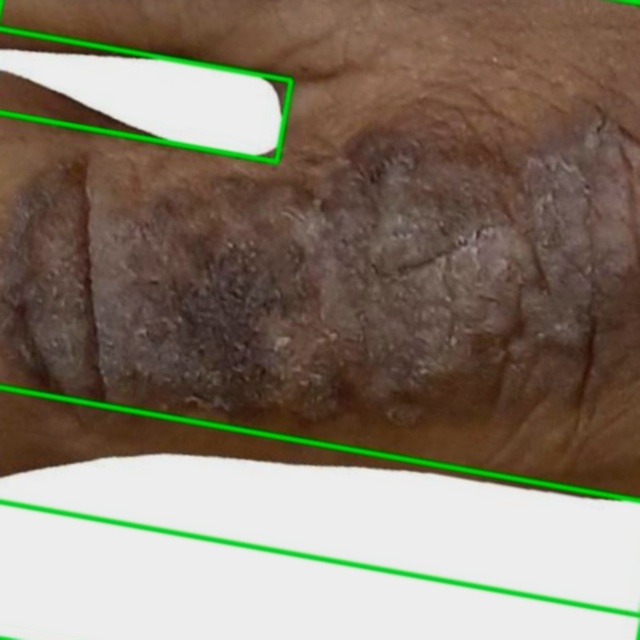Contact Dermatitis: (0, 0, 639, 615), (0, 387, 639, 639), (0, 29, 290, 161)
